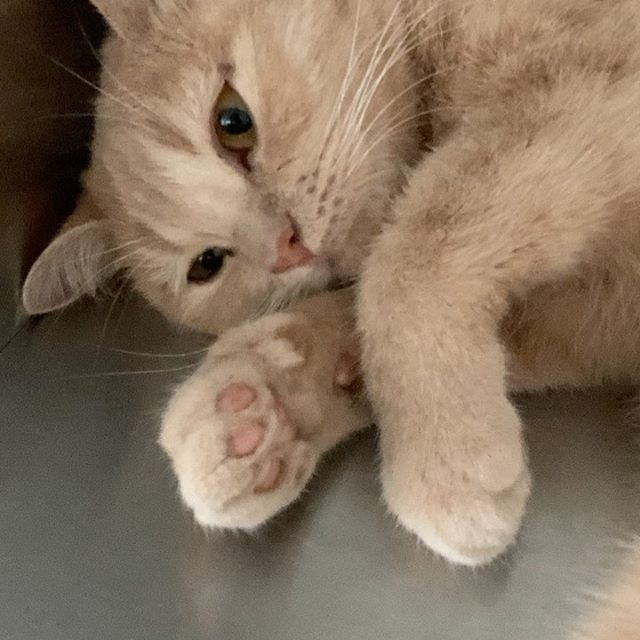cat: (18, 1, 404, 354)
